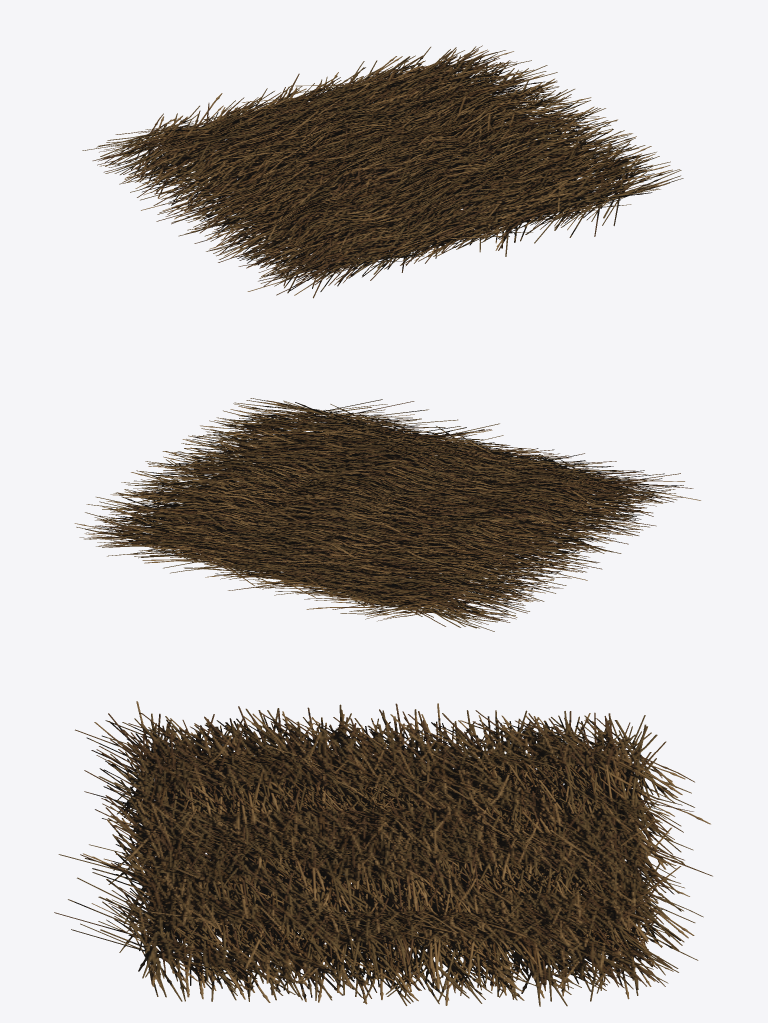
File: Hay1.fbx
3 renders of one model, top to bottom at view 1: azimuth 30°, elevation 25°; view 2: azimuth 150°, elevation 25°; view 3: azimuth 270°, elevation 25°, orthographic. The views are drawn at different scales.
Visible parts, largest first — view 1: Hay 2; view 2: Hay 2; view 3: Hay 2.
Boxes of the visible parts, x1=… form: Hay 2: x1=82, y1=45, x2=683, y2=298; Hay 2: x1=74, y1=398, x2=700, y2=631; Hay 2: x1=54, y1=701, x2=712, y2=1006.
Size of the model in its own units: 200 by 5.61 by 200.
